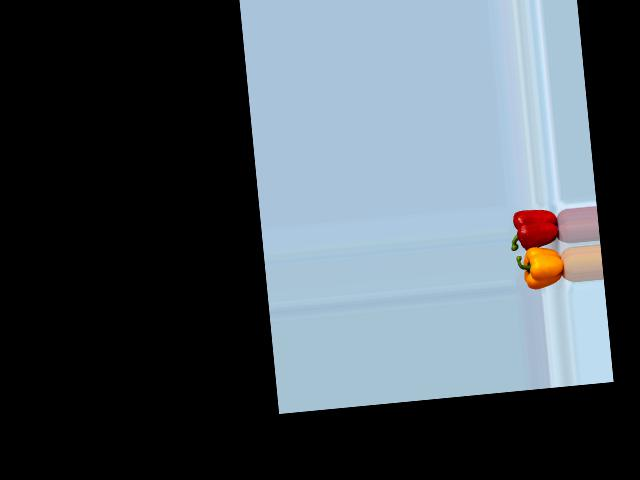bell_pepper: (509, 203, 565, 252)
